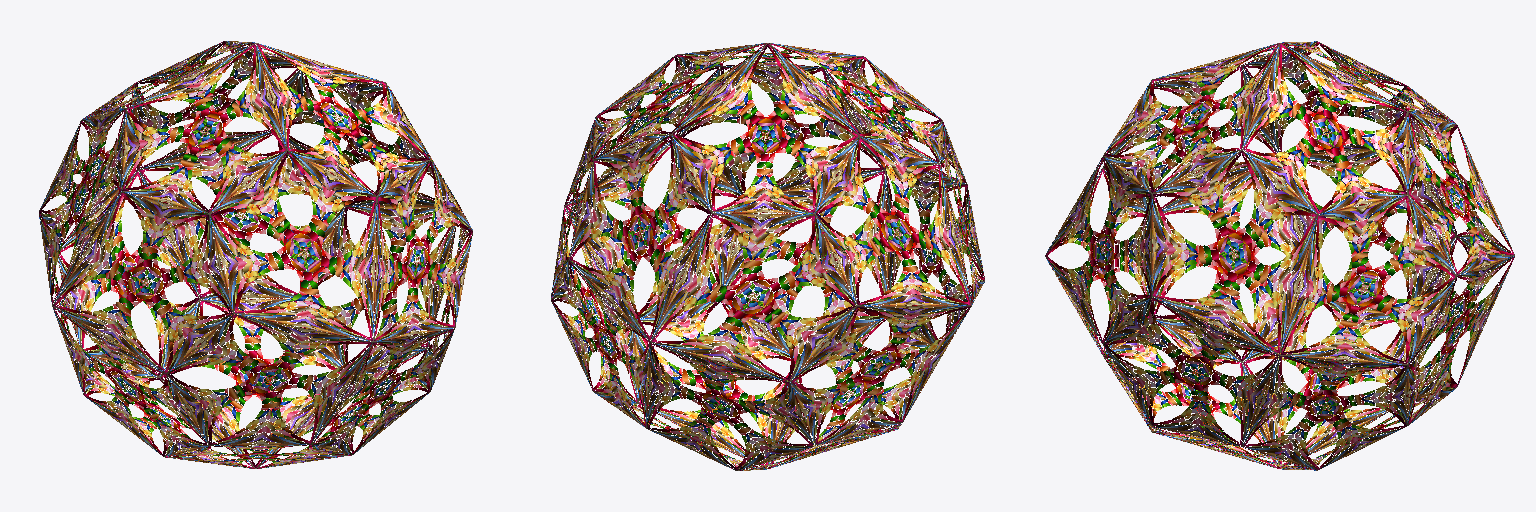
The picture shows the model from 3 angles: view 1: azimuth 30°, elevation 25°; view 2: azimuth 150°, elevation 25°; view 3: azimuth 270°, elevation 25°; orthographic projection.
Bounding box in the file's own units: 2.72 × 2.72 × 2.72.
Materials: 1 (1 with a texture image).